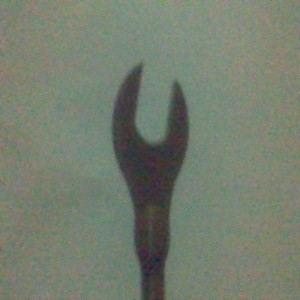spanner: (110, 61, 191, 300)
